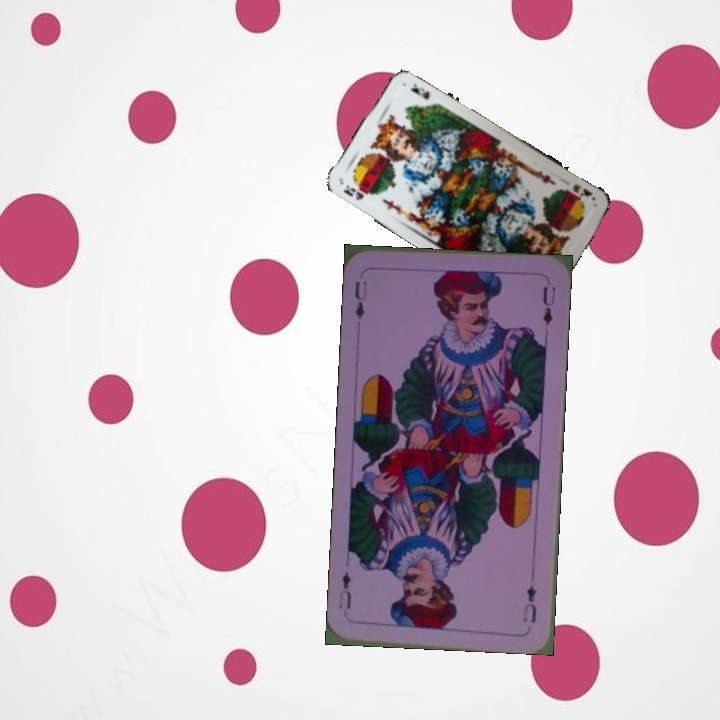EU: (519, 581, 539, 625), (351, 277, 370, 322)
SK: (339, 179, 376, 203), (562, 180, 595, 202)
